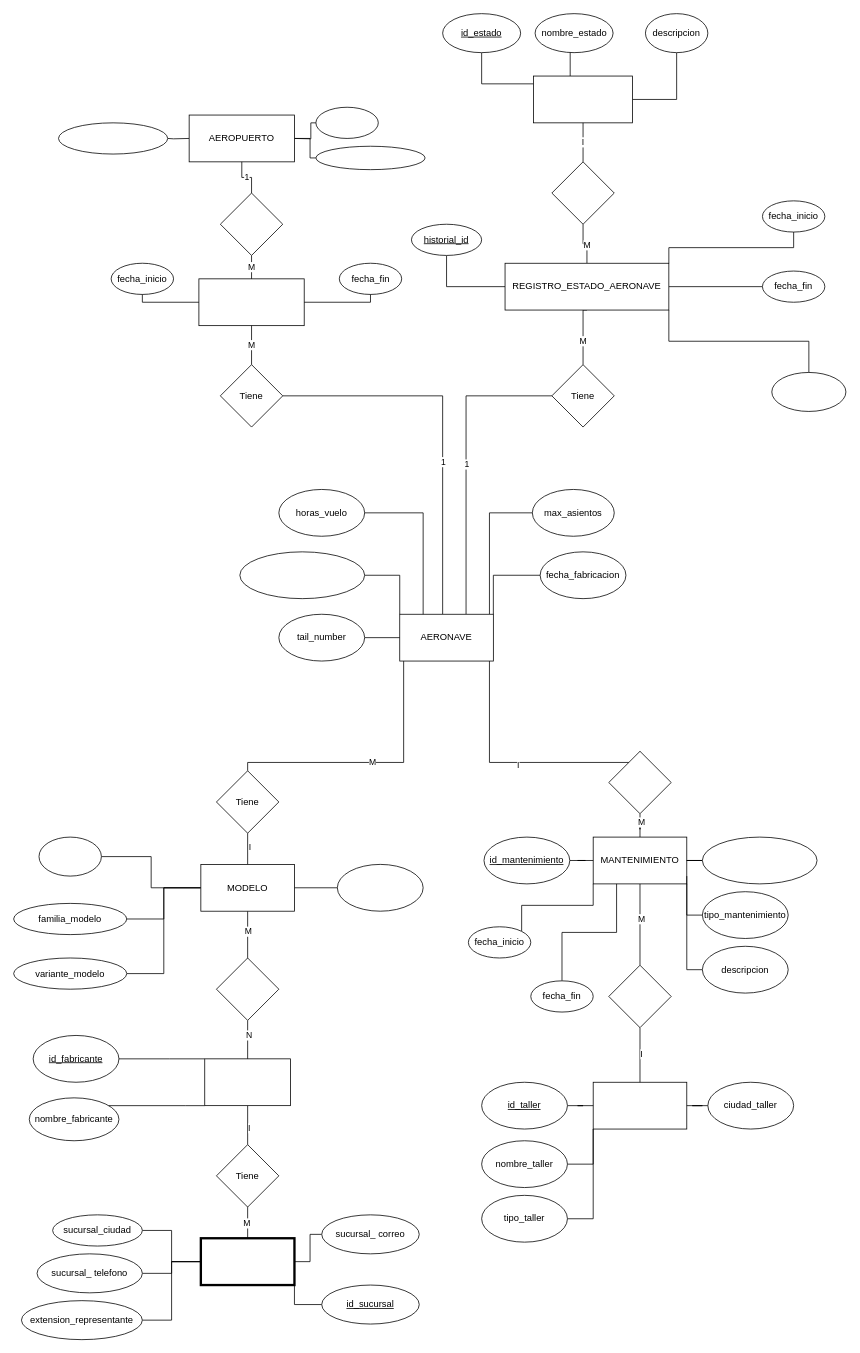
This 860x1353 diagram has some shape labels left out. Here are the shapes that lost their labels. From the top down, the centre of each, then its label:
At point (583, 99): "ESTADO".
At point (113, 138): "nombre_aeropuerto".
At point (346, 122): "iata".
At point (370, 157): "ciudad_aeropuerto".
At point (582, 192): "Guarda".
At point (251, 223): "Asigna".
At point (251, 302): "BASE".
At point (808, 391): "observaciones".
At point (302, 575): "manufacturer_serial_num".
At point (639, 782): "Recibe".
At point (69, 856): "id_modelo".
At point (759, 860): "costo_mantenimiento".
At point (380, 887): "clase_aeronave".
At point (247, 988): "Produce".
At point (639, 996): "Realiza".
At point (247, 1082): "FABRICANTE".
At point (639, 1105): "TALLER".
At point (247, 1261): "SUCURSAL".
